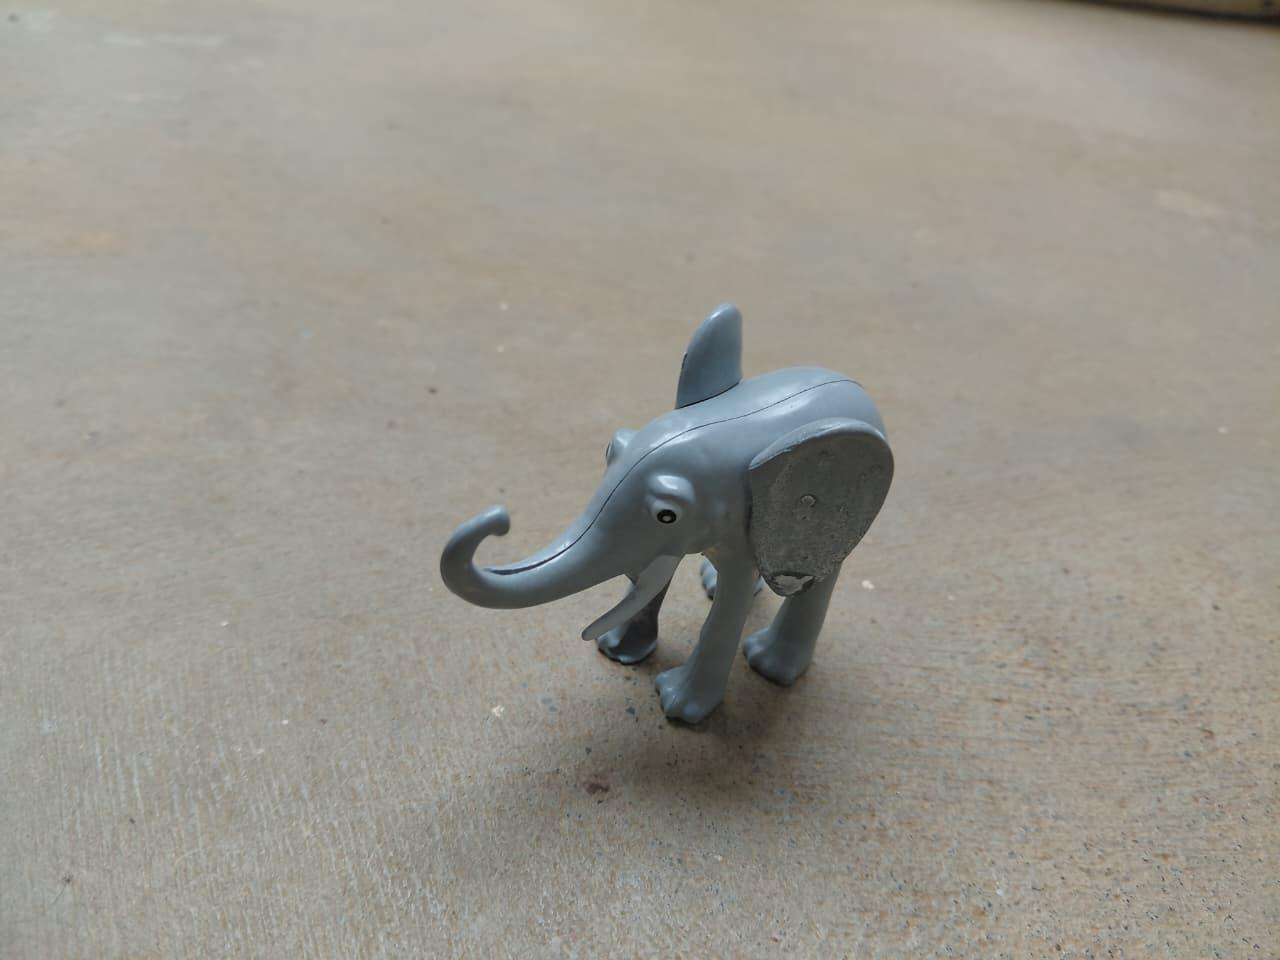elephant: (429, 305, 899, 737)
